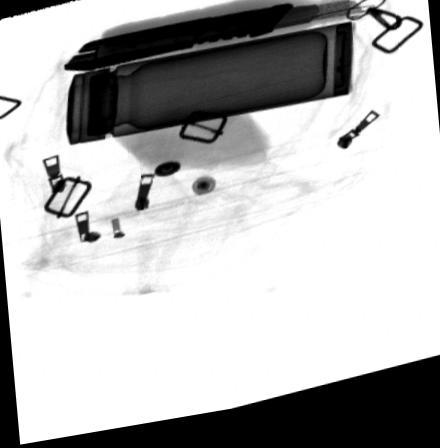Knife: (61, 9, 365, 75)
